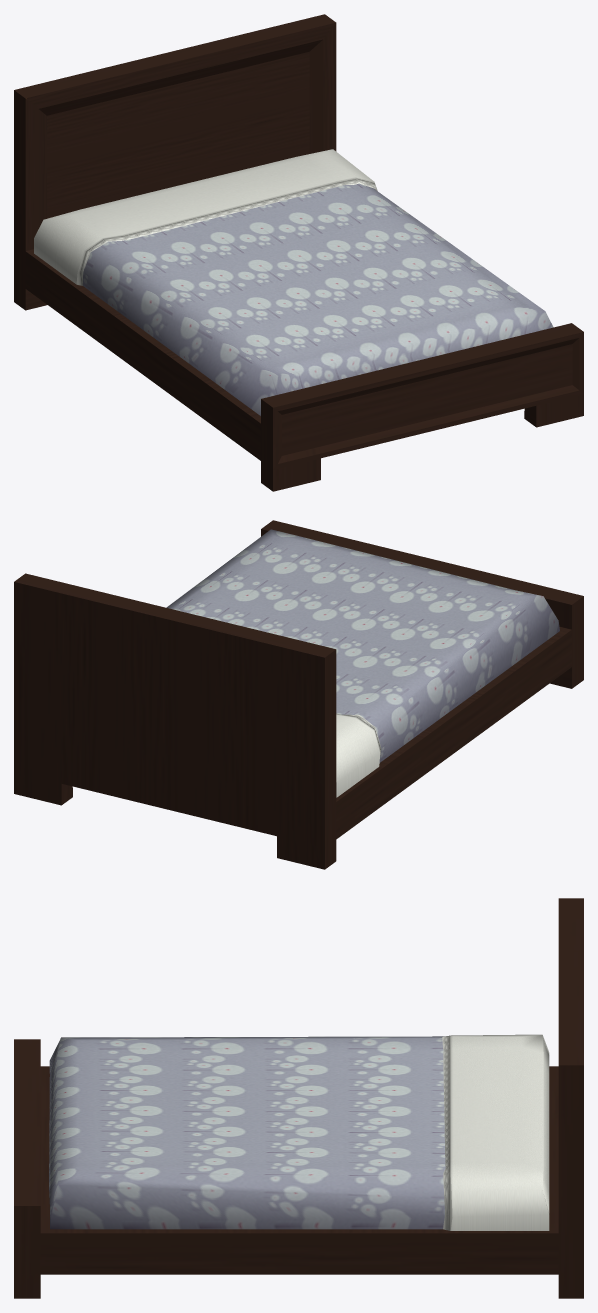
File: Bed_A.FBX
3 renders of one model, top to bottom at view 1: azimuth 30°, elevation 25°; view 2: azimuth 150°, elevation 25°; view 3: azimuth 270°, elevation 25°, orthographic. The views are drawn at different scales.
Visible parts, largest first — view 1: Bed; view 2: Bed; view 3: Bed.
Boxes of the visible parts, x1,y1,x2,y2 form: Bed: (14, 14, 583, 491); Bed: (14, 520, 583, 869); Bed: (14, 898, 583, 1298).
Size of the model in its own units: 397 by 259 by 573.
